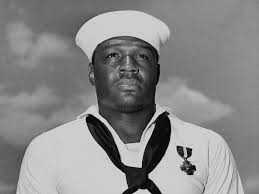black_male: (94, 28, 167, 119)
